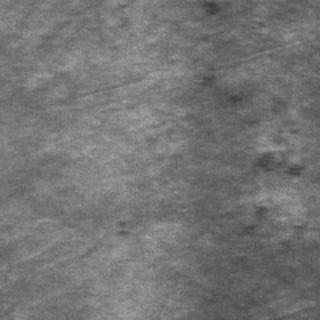rolled pit: (238, 138, 302, 248)
